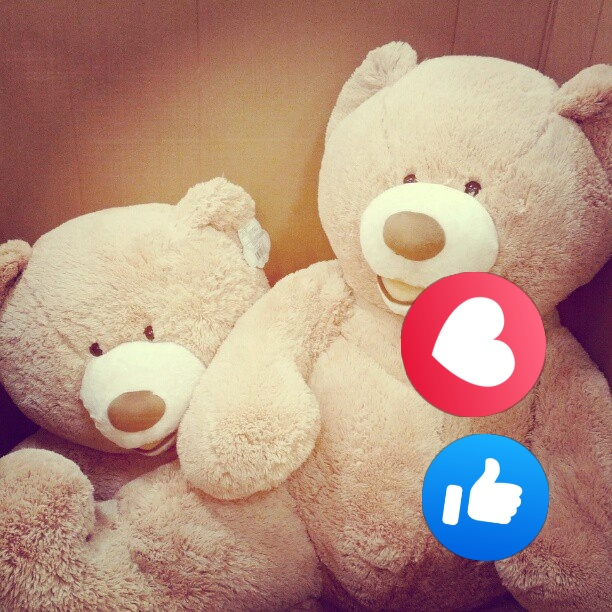like: (422, 434, 549, 561)
love: (401, 272, 546, 417)
